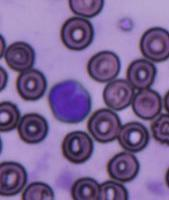M: (48, 78, 92, 124)
